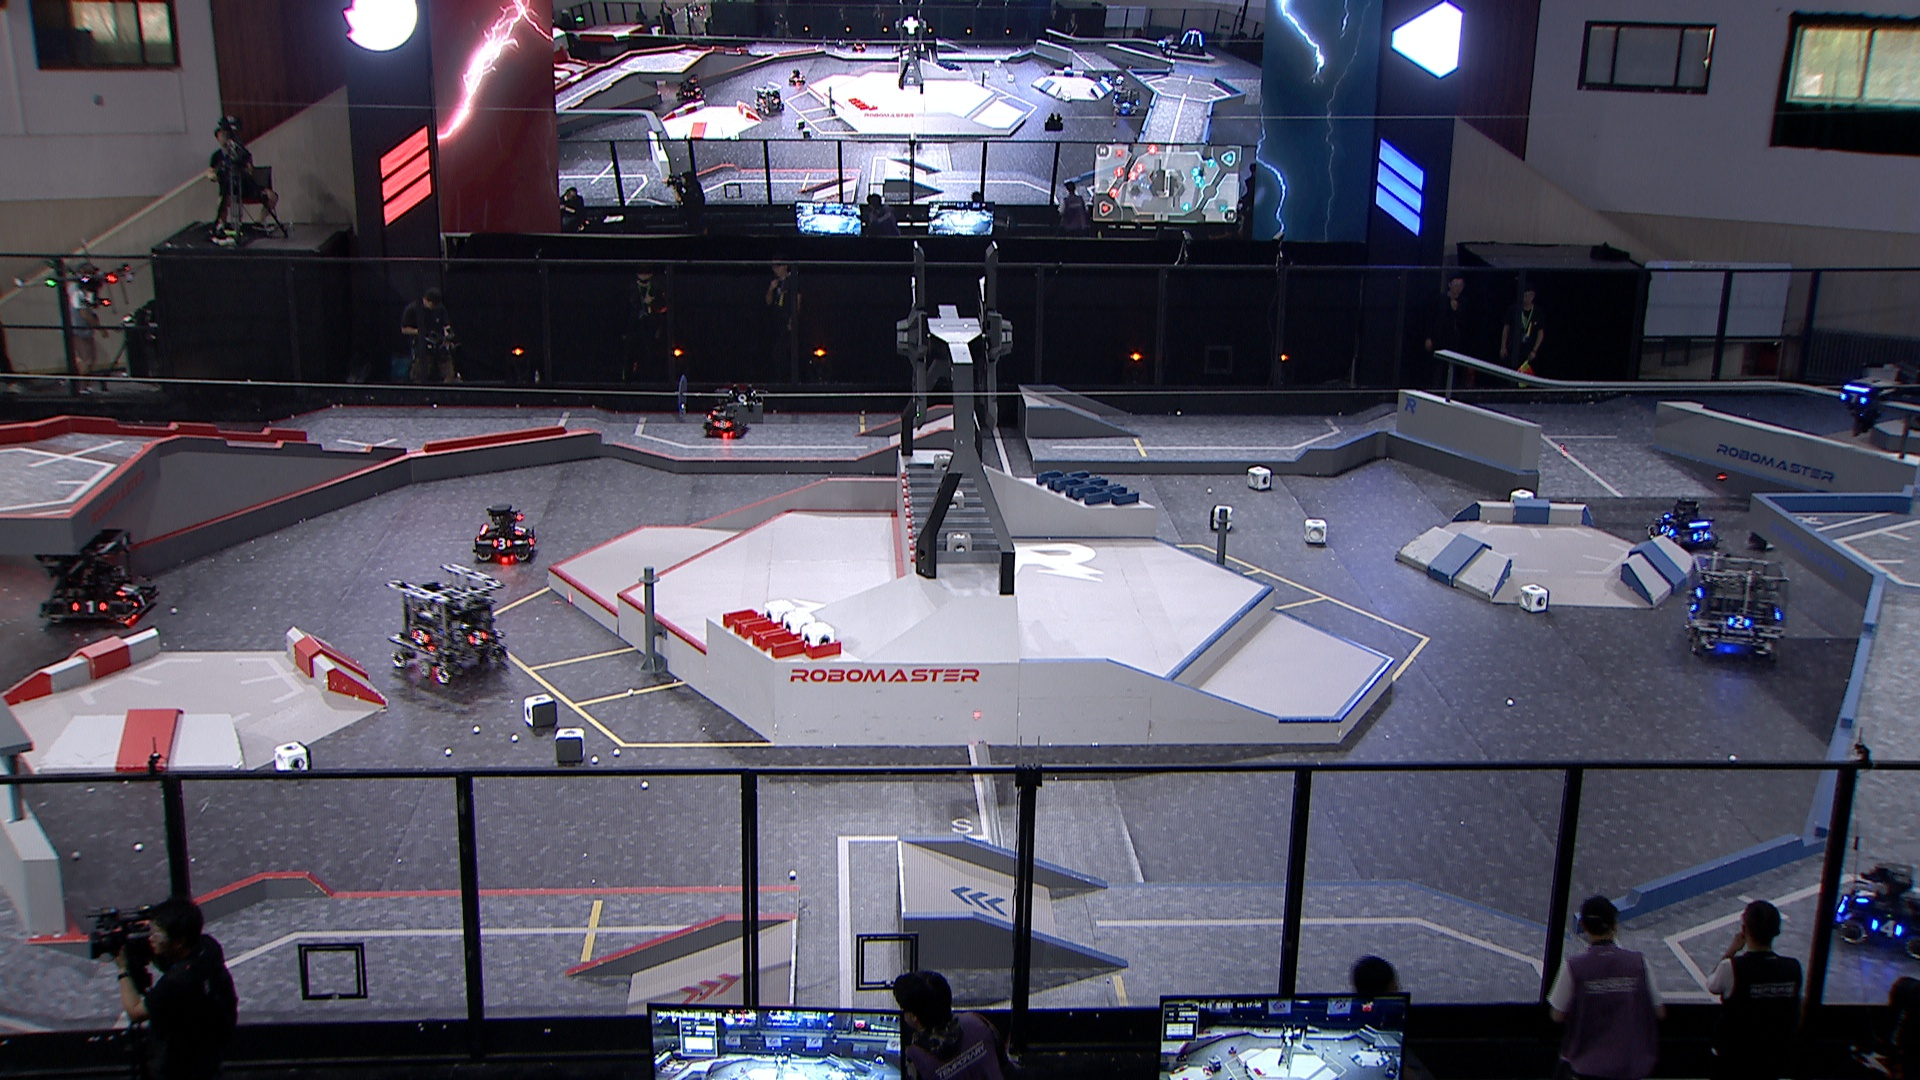armor: (1870, 916, 1905, 942), (69, 597, 109, 617), (1855, 882, 1880, 905), (112, 580, 141, 599), (465, 628, 489, 647), (409, 626, 433, 645), (1840, 390, 1866, 406), (1727, 613, 1753, 629), (131, 589, 149, 607), (1692, 527, 1712, 543), (712, 418, 733, 431), (491, 537, 512, 550), (1658, 524, 1676, 537), (512, 524, 527, 537)
car: (382, 560, 510, 688), (36, 517, 157, 632), (1681, 550, 1792, 665), (1836, 860, 1920, 959), (1644, 496, 1721, 553), (473, 501, 535, 564), (699, 396, 750, 439)
ignore: (674, 71, 708, 105), (752, 82, 789, 113), (1112, 86, 1143, 119), (1178, 26, 1207, 58)
watcher: (1833, 372, 1890, 438)
